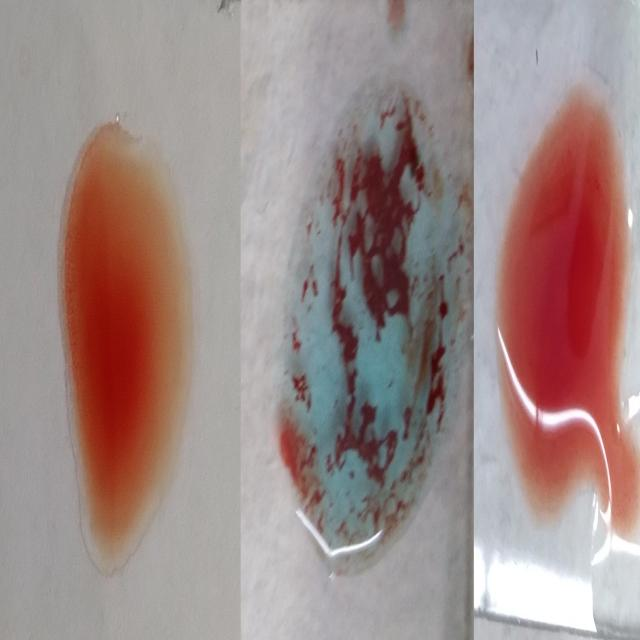A: (269, 46, 454, 584)
